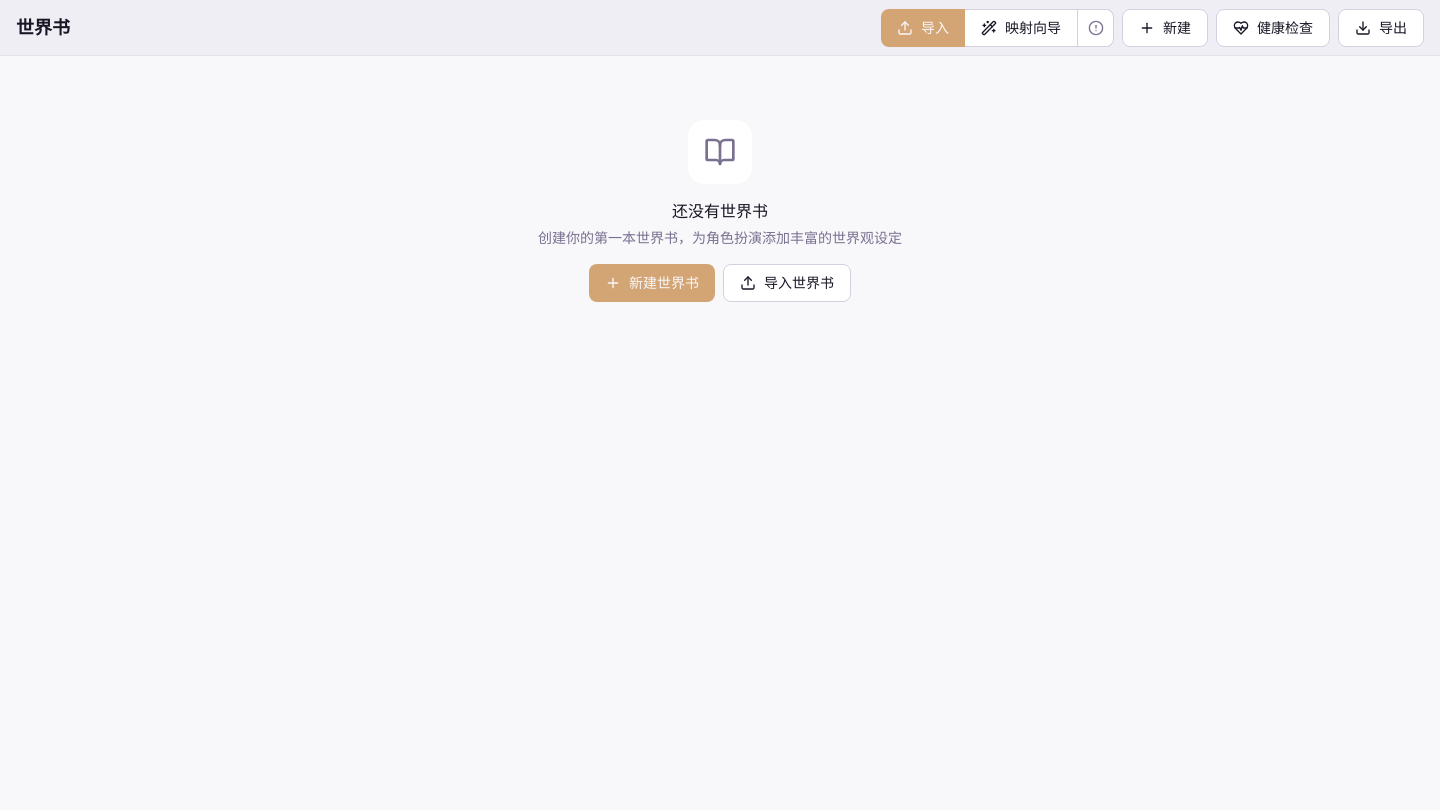
LorebookPage › UEX-P1-22：新建保存失败时移除乐观新建的世界书并给出错误提示
This screenshot has width=1440, height=810.
Click the button "新建" at (1165, 28), box [1122,8,1208,46]
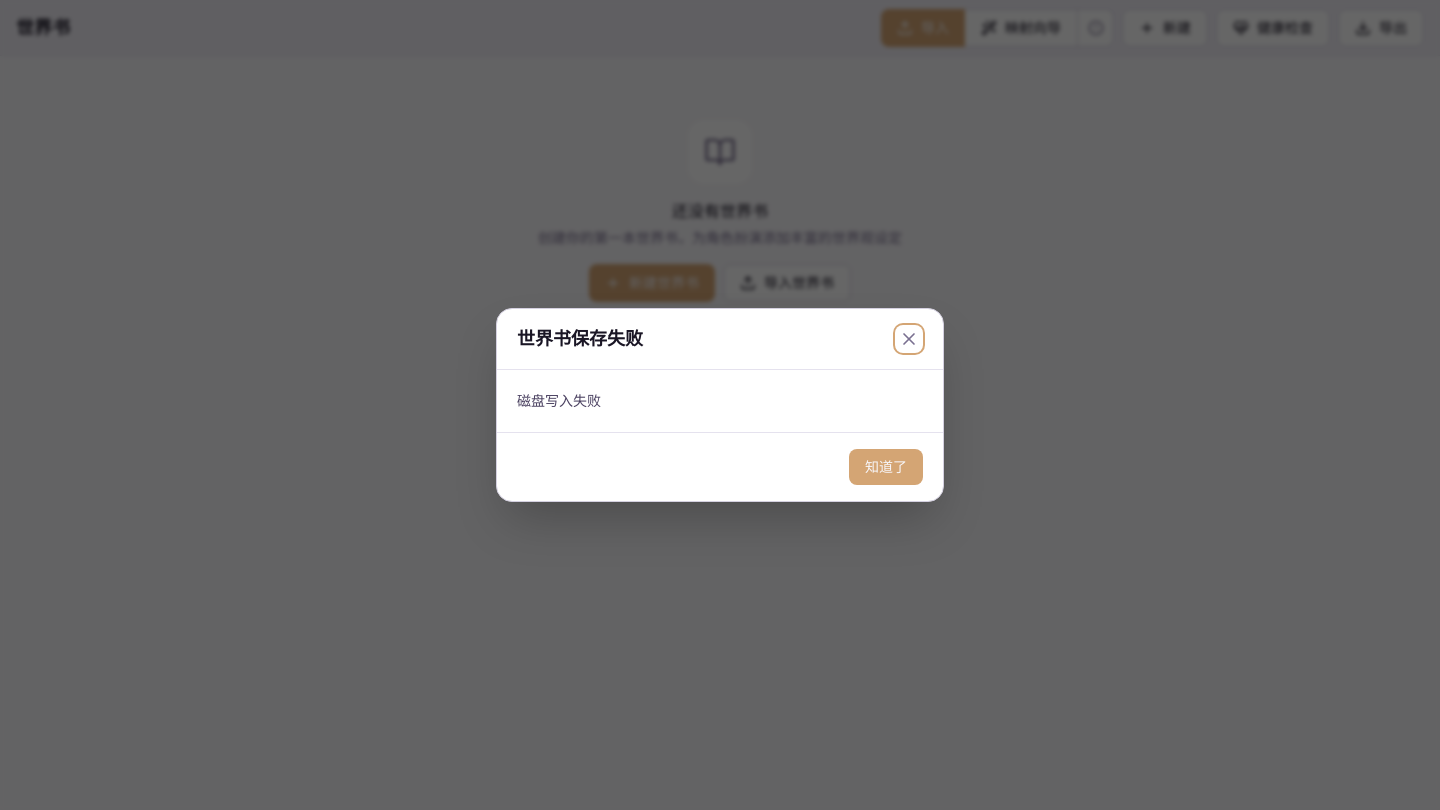
Check: the heading "还没有世界书" is shown, box [672,200,768,224]
Check: the dialog "世界书保存失败" is shown, box [496,308,944,502]
Check: the text "磁盘写入失败" is shown, box [517,393,601,409]
